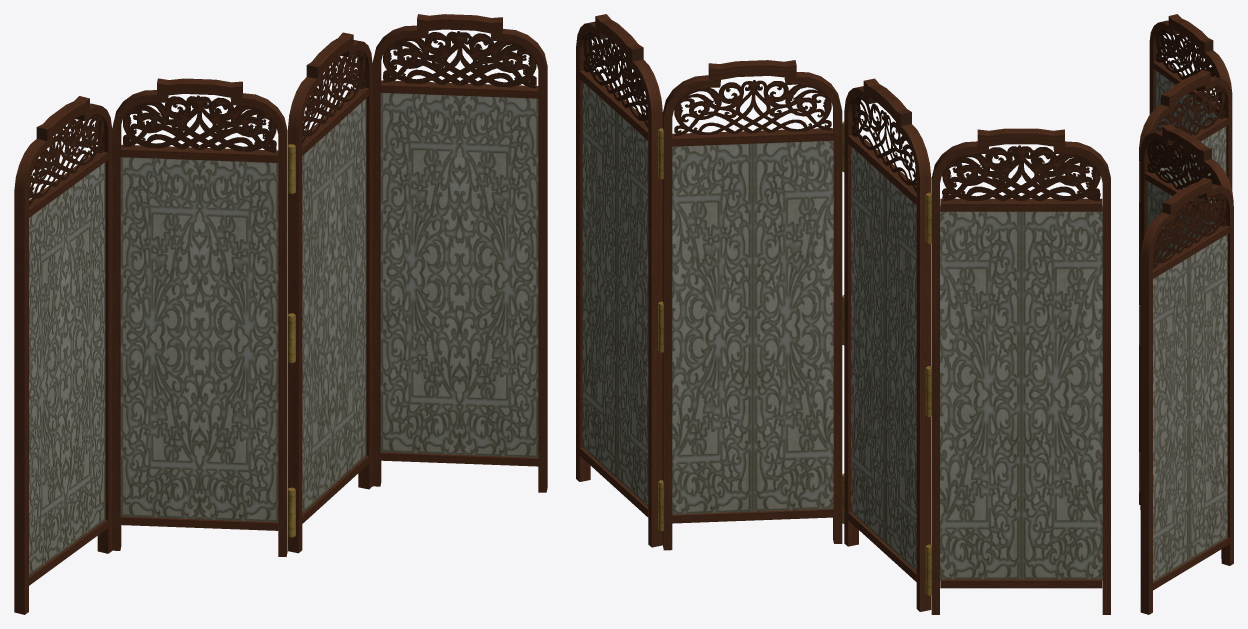
The model's file is vanity_screen.DAE.
The picture shows the model from 3 angles, left to right: view 1: azimuth 30°, elevation 25°; view 2: azimuth 150°, elevation 25°; view 3: azimuth 270°, elevation 25°; orthographic projection. The views are drawn at different scales.
Visible parts, largest first — view 1: Object001, Object003, Box001, Object002; view 2: Box001, Object002, Object003, Object001; view 3: Object003, Object002, Object001, Box001.
Part boxes in pixels (x1,y1,x2,y2): Object001: (112,78,287,556); Object003: (372,14,547,492); Box001: (14,96,112,614); Object002: (288,32,372,553); Box001: (925,128,1110,614); Object002: (658,60,844,550); Object003: (576,14,662,547); Object001: (844,78,931,611); Object003: (1140,177,1233,614); Object002: (1139,124,1233,558); Object001: (1139,69,1232,504); Box001: (1149,14,1232,149).
Bounding box in the file's own units: 3.52 × 0.6469 × 2.99.
